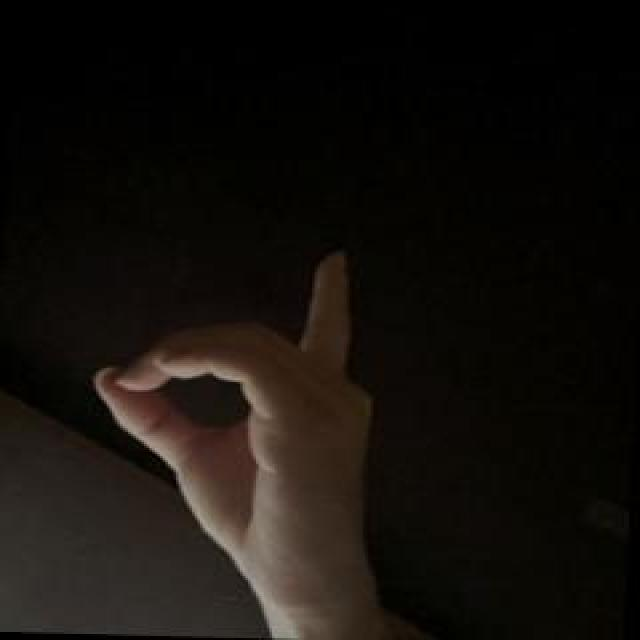D: (77, 238, 400, 588)
